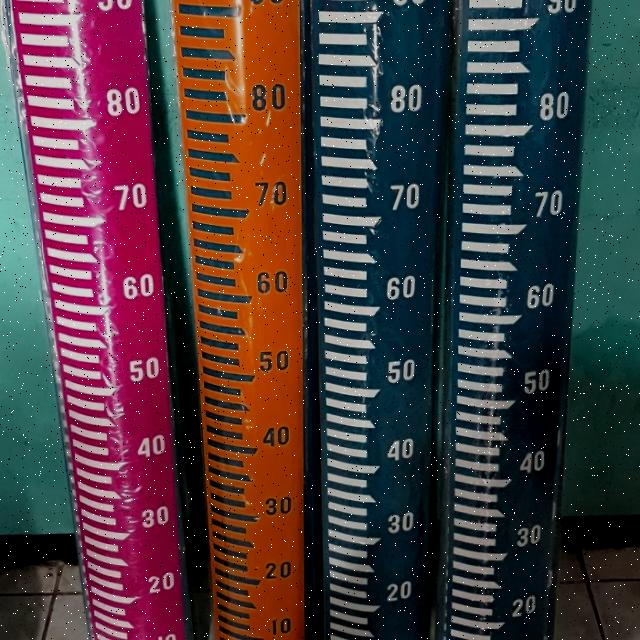10: (267, 613, 294, 637)
20: (508, 591, 538, 620), (264, 555, 294, 582), (386, 578, 415, 604), (145, 570, 175, 595)
30: (386, 508, 416, 538), (140, 502, 170, 530), (263, 492, 295, 518), (516, 522, 544, 549)
40: (136, 427, 168, 464), (259, 419, 293, 452), (386, 432, 417, 467), (516, 446, 550, 476)
50: (128, 350, 163, 384), (387, 353, 418, 387), (256, 345, 292, 374), (520, 366, 552, 397)
60: (381, 271, 418, 306), (121, 270, 160, 303), (254, 264, 292, 297), (526, 278, 558, 315)
70: (250, 174, 292, 211), (530, 188, 572, 222), (111, 182, 152, 214), (386, 182, 422, 214)
80: (99, 84, 141, 122), (249, 76, 290, 114), (388, 82, 423, 118), (540, 90, 574, 124)
staff: (1, 0, 182, 640), (177, 0, 316, 640), (459, 0, 590, 640), (314, 0, 441, 640)
